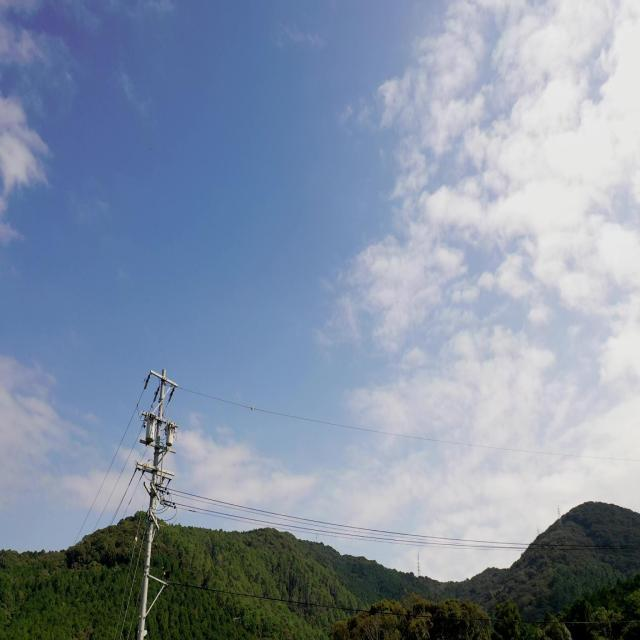Birds: (160, 566, 172, 582)
